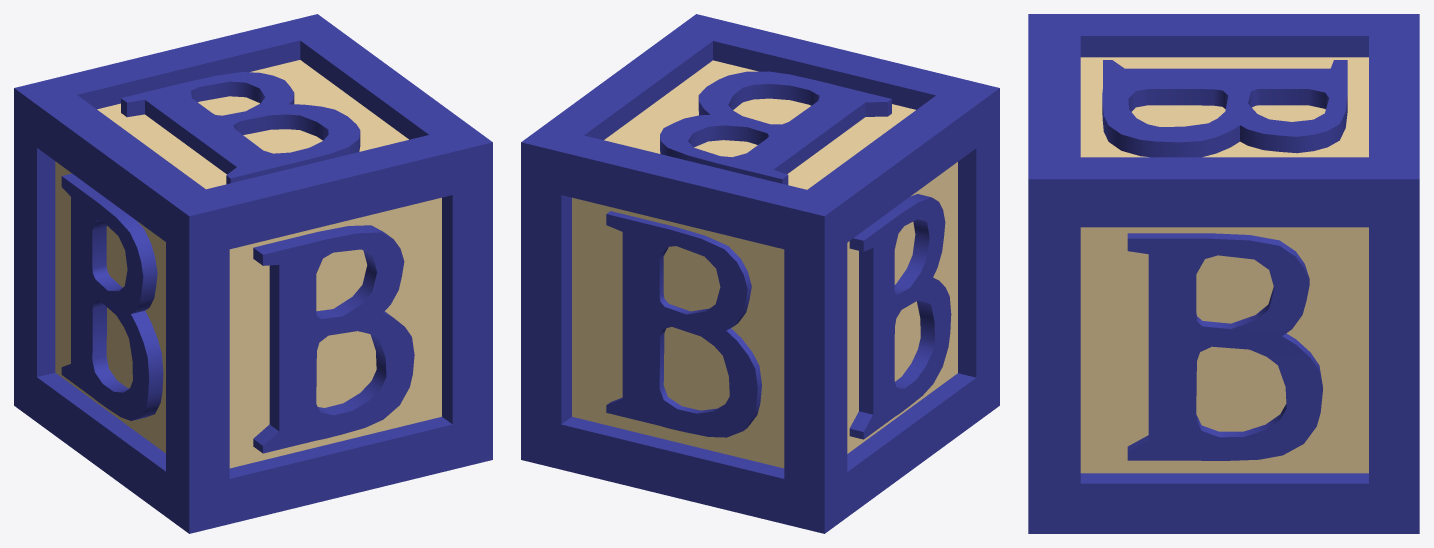
Rendered from Bblock.FBX.
3 views of the same model, side by side, from view 1: azimuth 30°, elevation 25°; view 2: azimuth 150°, elevation 25°; view 3: azimuth 270°, elevation 25° (orthographic). The views are drawn at different scales.
Parts seen in each view (by area): view 1: Box Base, B Front, B Left, B Top; view 2: Box Base, B Back, B Left, B Top; view 3: Box Base, B Right, B Top.
Part boxes in pixels (x1,y1,x2,y2): Box Base: (14,14,492,533); B Front: (253,225,414,453); B Left: (61,173,163,420); B Top: (121,72,360,184); Box Base: (521,14,999,533); B Back: (606,211,761,437); B Left: (849,194,951,439); B Top: (660,71,891,184); Box Base: (1028,14,1419,533); B Right: (1127,233,1322,460); B Top: (1102,60,1347,157).
Size of the model in its own units: 39.37 by 39.37 by 39.37.
Materials: 2 (2 with a texture image).
